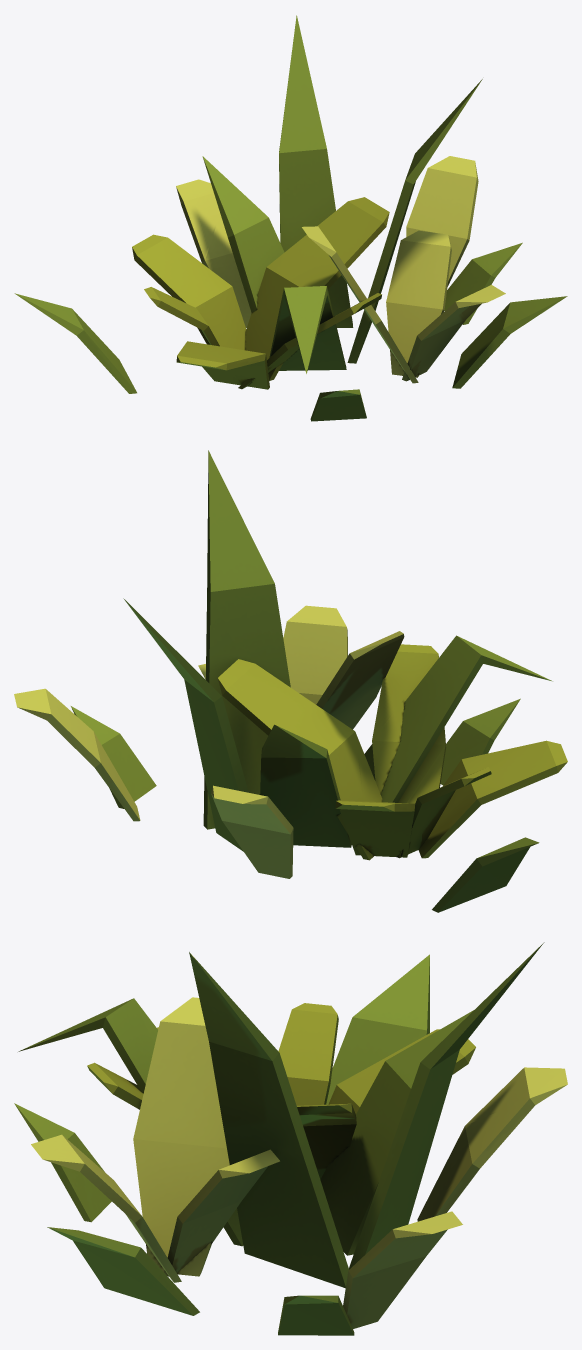
Rendered from corn_1.gltf.
The picture shows the model from 3 angles, top to bottom: view 1: azimuth 30°, elevation 25°; view 2: azimuth 150°, elevation 25°; view 3: azimuth 270°, elevation 25°; orthographic projection. The views are drawn at different scales.
Parts seen in each view (by area): view 1: node-0; view 2: node-0; view 3: node-0.
Part boxes in pixels (x1,y1,x2,y2): node-0: (14,15,567,421); node-0: (14,450,567,912); node-0: (14,942,567,1335).
Bounding box in the file's own units: 1.82 × 1.03 × 1.39.
1 material, 1 textured.
